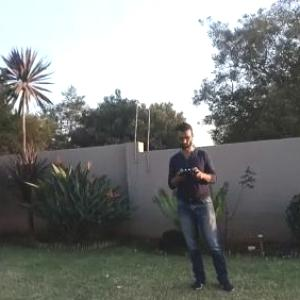follow: (166, 116, 240, 293)
